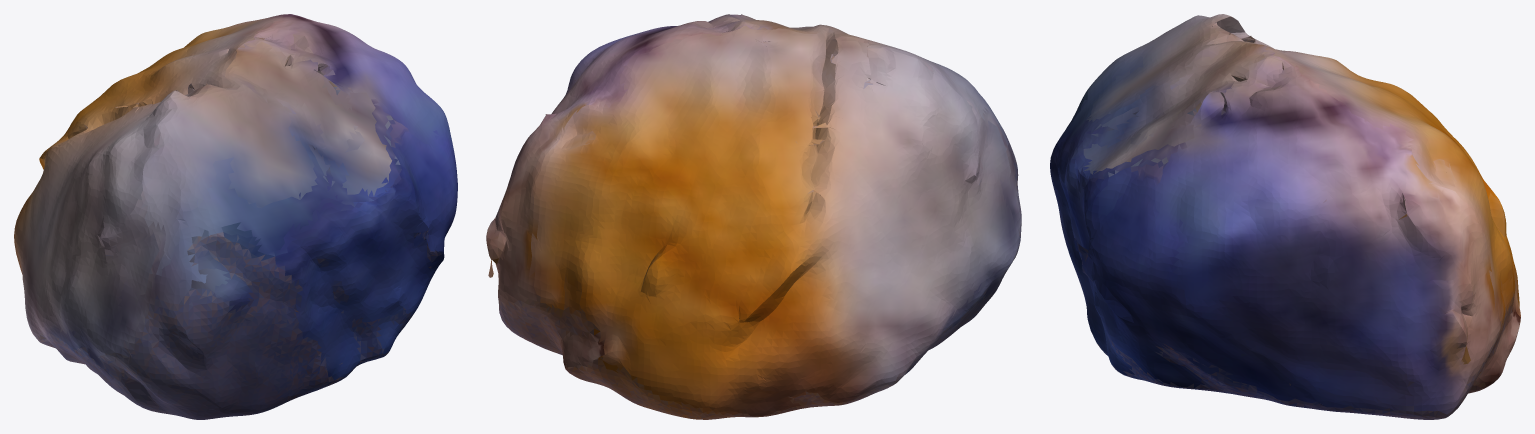
The model's file is model_New Qlone.obj.
3 views of the same model, side by side, from view 1: azimuth 30°, elevation 25°; view 2: azimuth 150°, elevation 25°; view 3: azimuth 270°, elevation 25° (orthographic). The views are drawn at different scales.
Size of the model in its own units: 38.8 by 29.25 by 39.65.
Materials: 1 (1 with a texture image).
